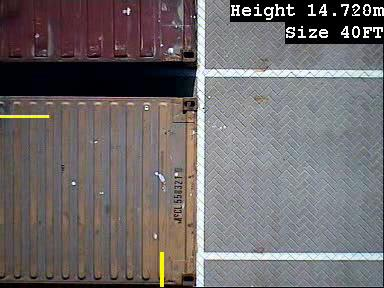groundmarker_2: (195, 222, 244, 288), (195, 42, 244, 107)
